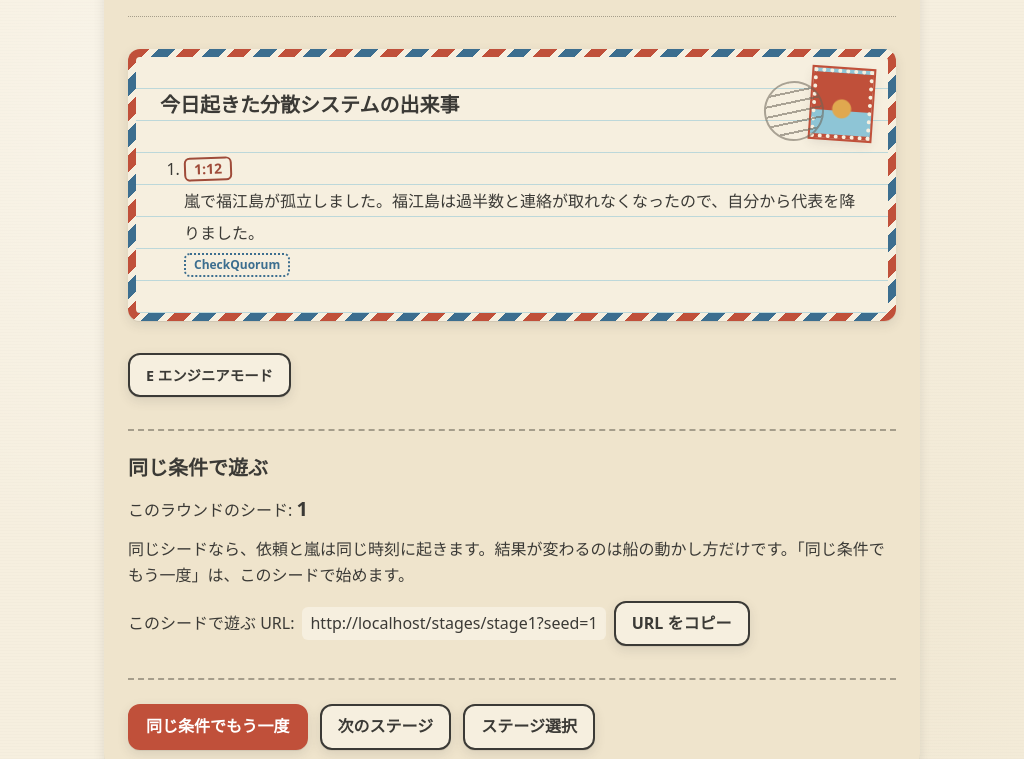
Scenario: ResultScreen › RS-T1 結果があるときだけ「E エンジニアモード」のボタンが出来事の節の後にある
The width and height of the screenshot is (1024, 759).
(page scrolled)
Click the button "E エンジニアモード" at (209, 375), box x1=128 y1=353 x2=291 y2=397
(page scrolled)
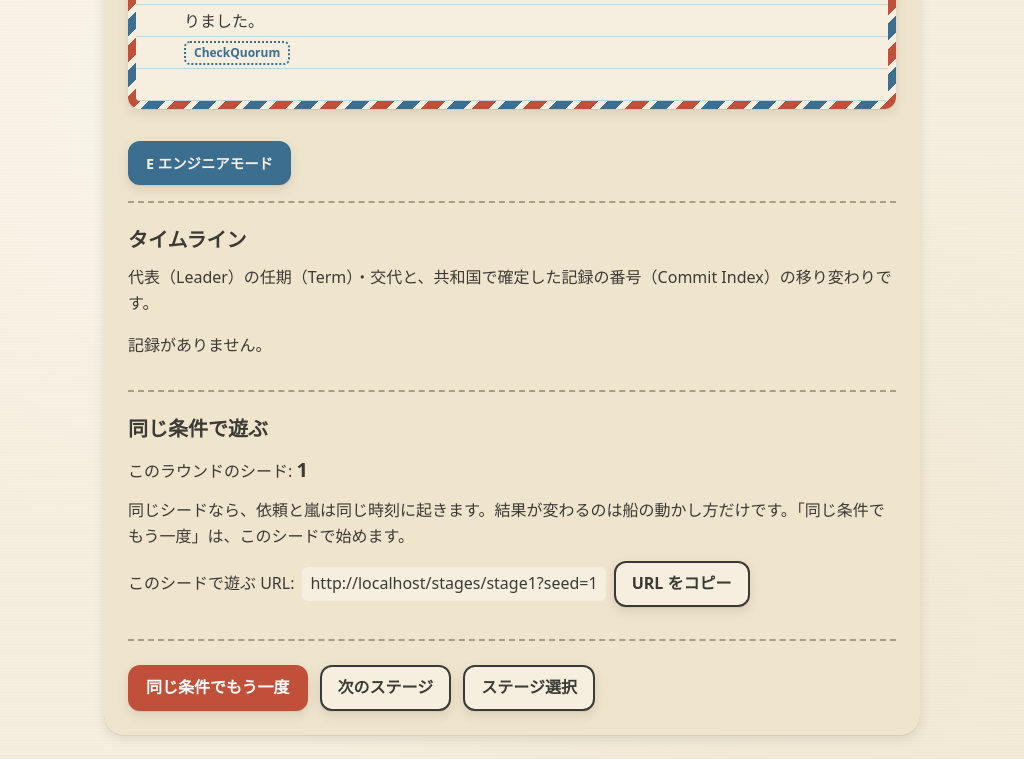
Check: the element "タイムライン" is shown, box x1=128 y1=201 x2=896 y2=358
